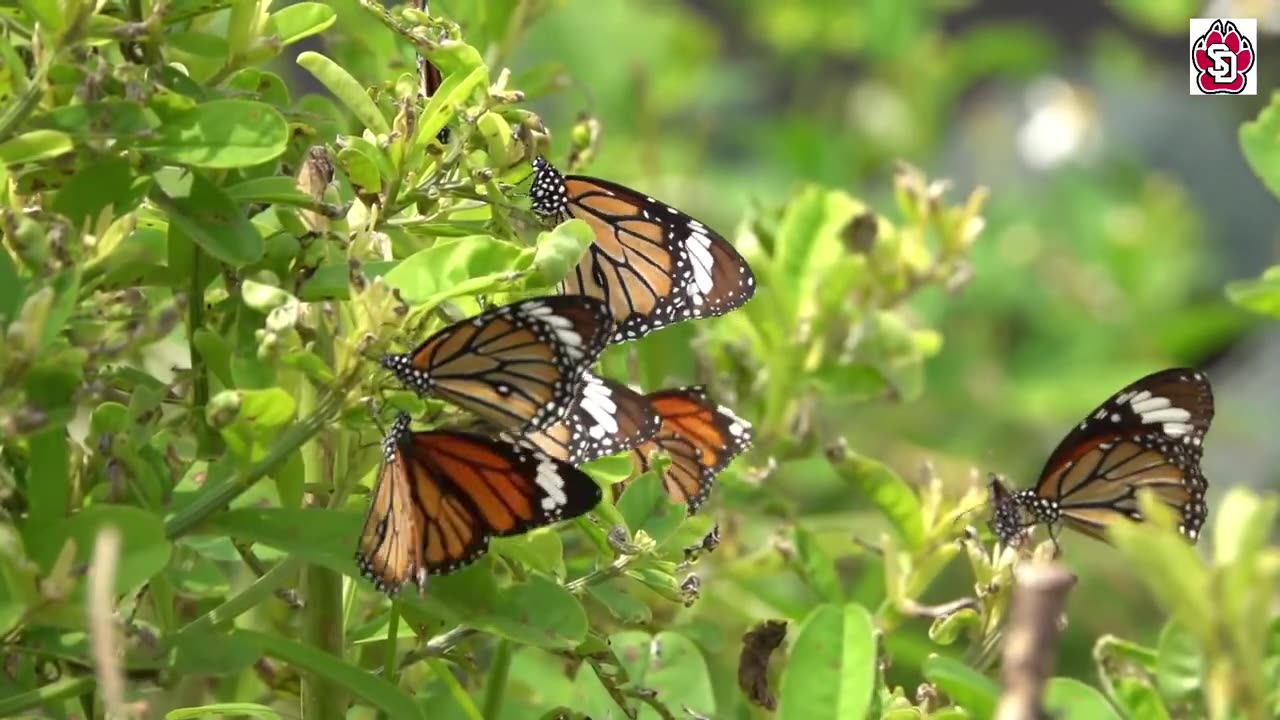Butterfly: (360, 399, 603, 584), (531, 152, 765, 344), (989, 374, 1216, 555)
